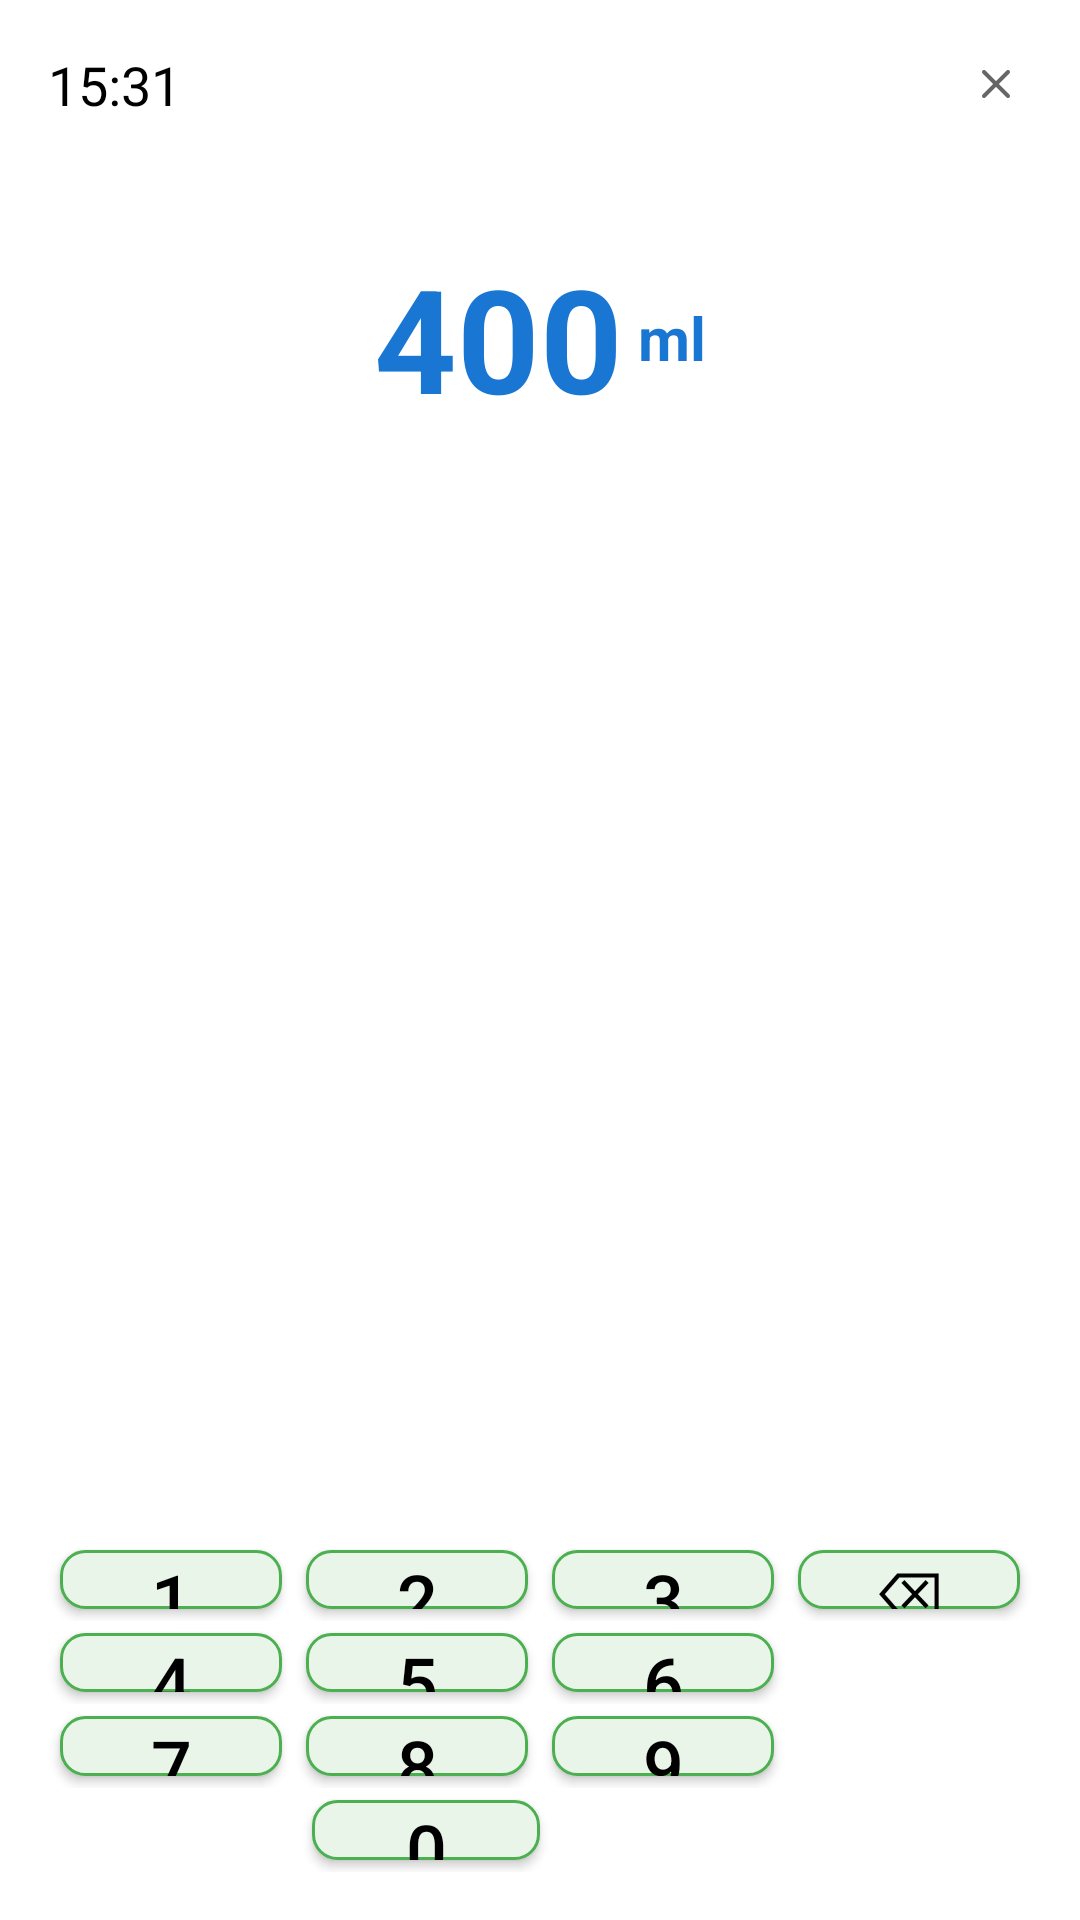

Named icons in this screenshot (1080x1920) and their centers, [x,y]:
close: [996,84]
